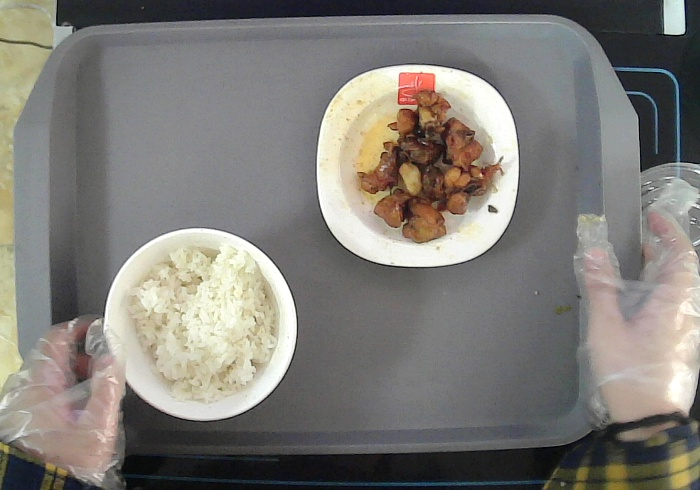SHKJ-Bai_Se_Si_Fang_Cai_Die: (316, 64, 520, 268)
SHKJ-Fan_Wan: (103, 227, 297, 421)
